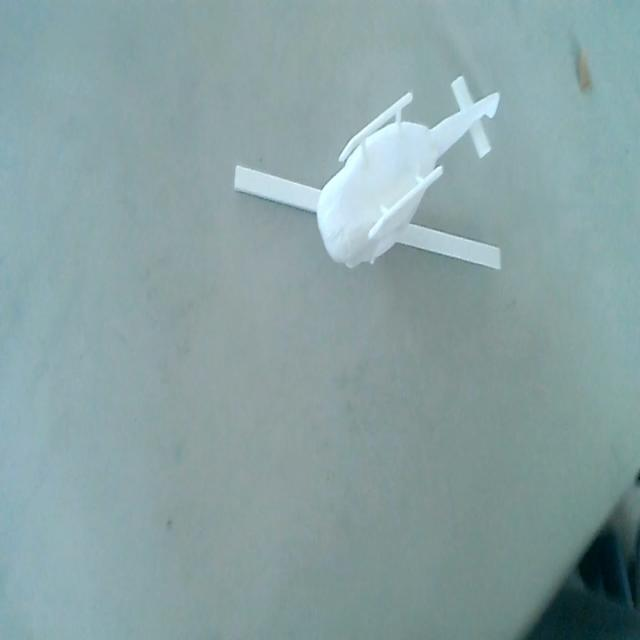Helicopter: (231, 75, 504, 273)
